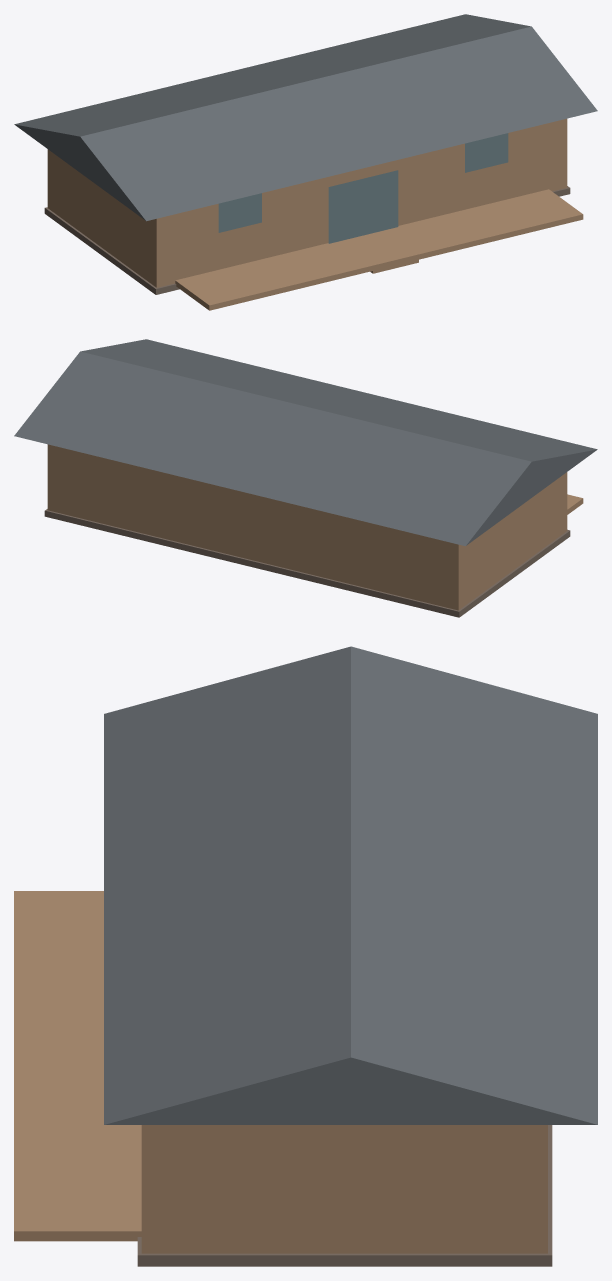
The model's file is chalet_named_lodge.glb.
The picture shows the model from 3 angles, top to bottom: view 1: azimuth 30°, elevation 25°; view 2: azimuth 150°, elevation 25°; view 3: azimuth 270°, elevation 25°; orthographic projection. The views are drawn at different scales.
Visible parts, largest first — view 1: world; view 2: world; view 3: world.
Boxes of the visible parts, <box> form: world: <box>14,14,597,310</box>; world: <box>14,339,597,617</box>; world: <box>14,646,597,1266</box>.
Bounding box in the file's own units: 14.24 × 3.65 × 8.55.
